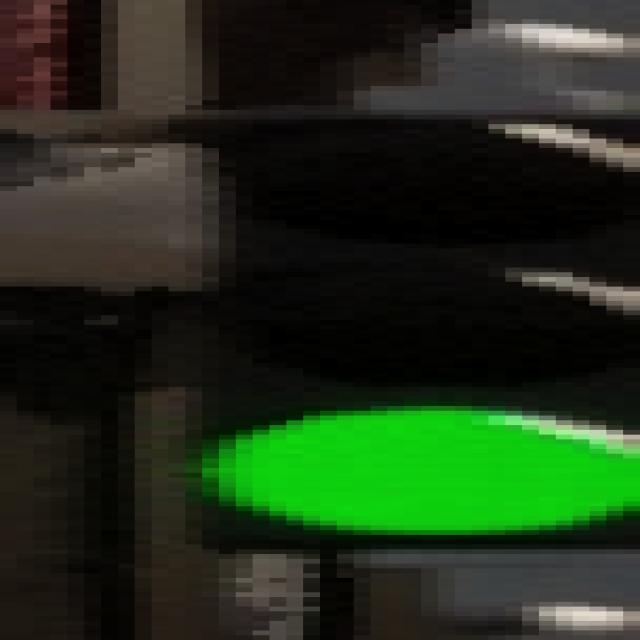green_light: (175, 82, 638, 555)
